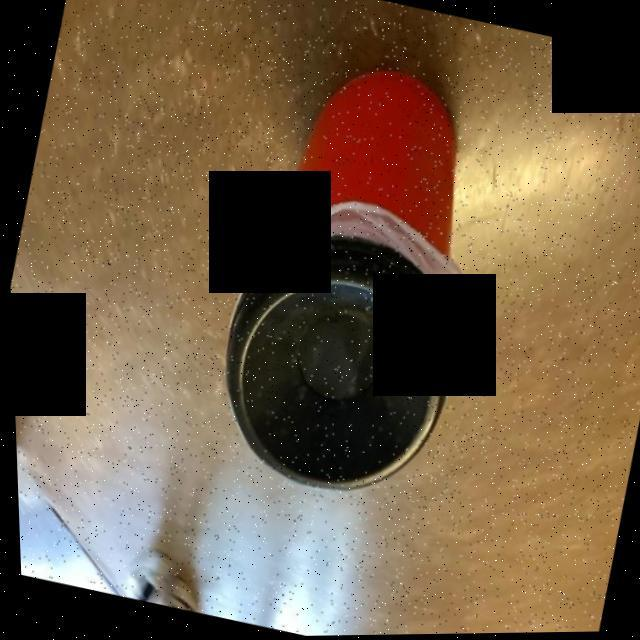bin: (179, 19, 551, 533)
